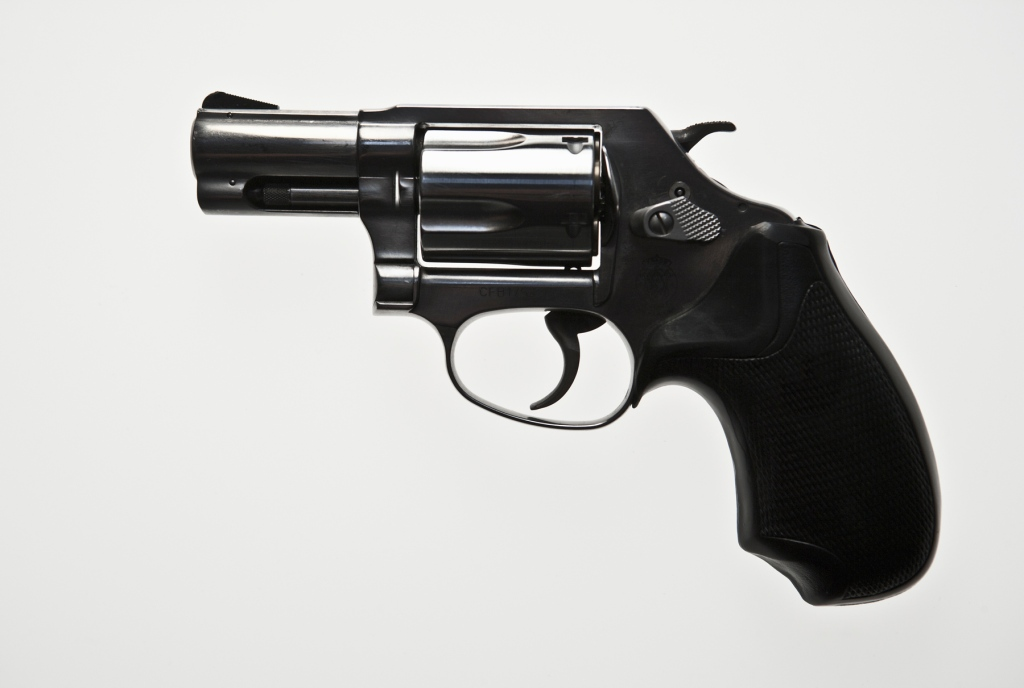gun: (187, 87, 943, 608)
